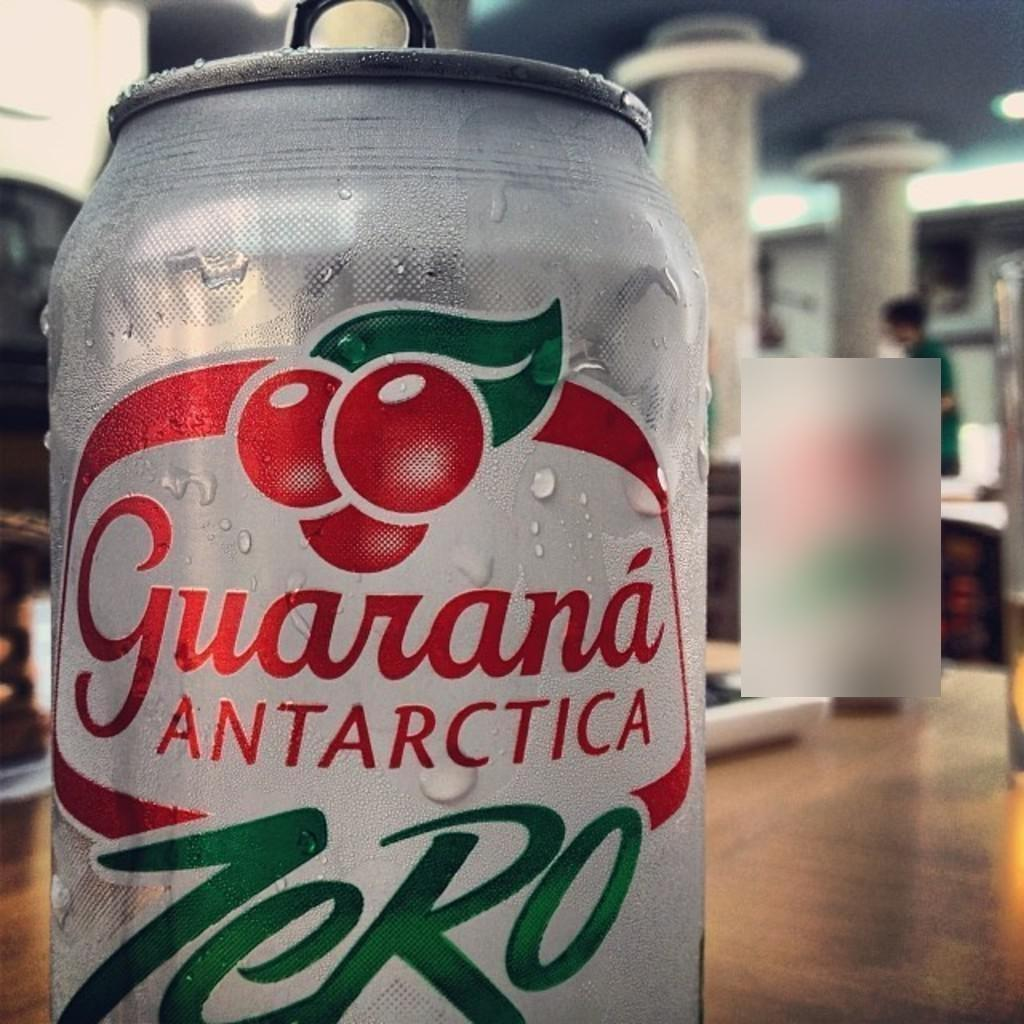tin can: (47, 0, 709, 1022)
